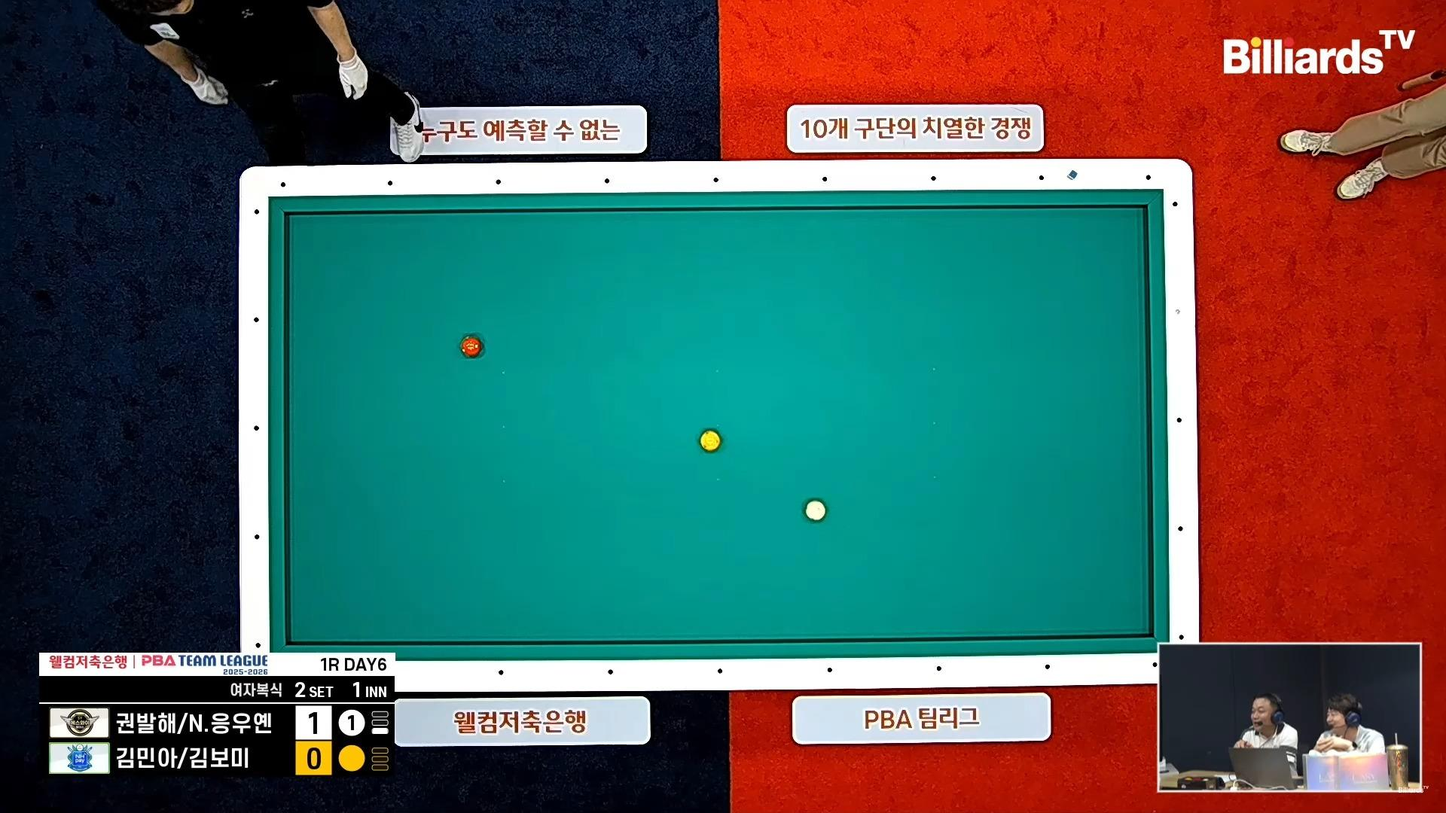billiard-ball-Red: (462, 334, 484, 358)
billiard-ball-Yellow: (698, 427, 724, 454)
billiard-ball-white: (804, 497, 832, 523)
